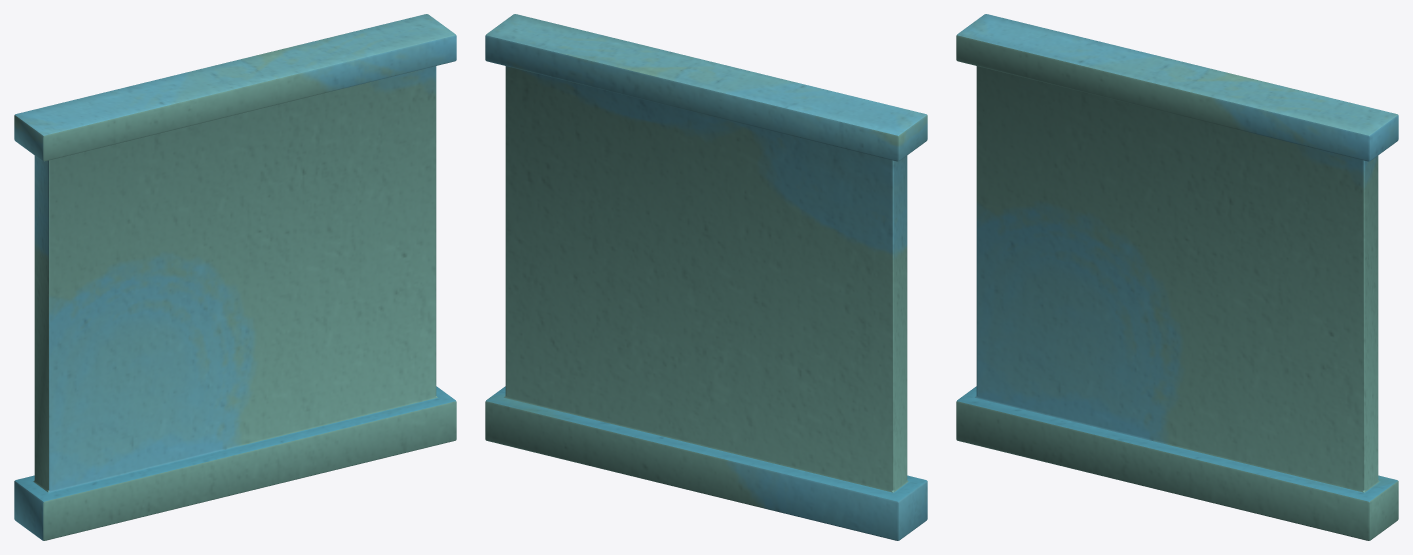
Rendered from TOMB_WALL_3_006.obj.
The picture shows the model from 3 angles, left to right: view 1: azimuth 30°, elevation 25°; view 2: azimuth 150°, elevation 25°; view 3: azimuth 330°, elevation 25°; orthographic projection.
Visible parts, largest first — view 1: TOMB_WALL_3_006; view 2: TOMB_WALL_3_006; view 3: TOMB_WALL_3_006.
Boxes of the visible parts, x1,y1,x2,y2 form: TOMB_WALL_3_006: [14, 14, 456, 540]; TOMB_WALL_3_006: [485, 14, 927, 540]; TOMB_WALL_3_006: [956, 14, 1398, 540].
Bounding box in the file's own units: 3.2 × 3 × 0.4.
Materials: 2 (2 with a texture image).
